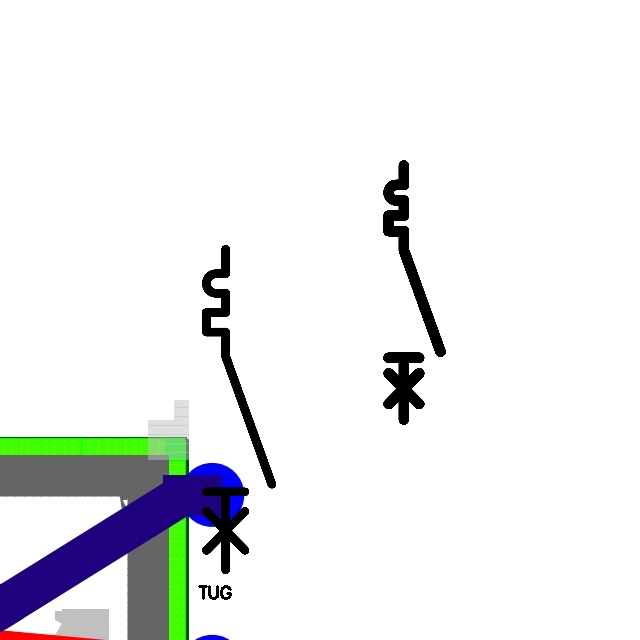interruptor_termomagnetico: (198, 241, 280, 578), (382, 159, 447, 426)
